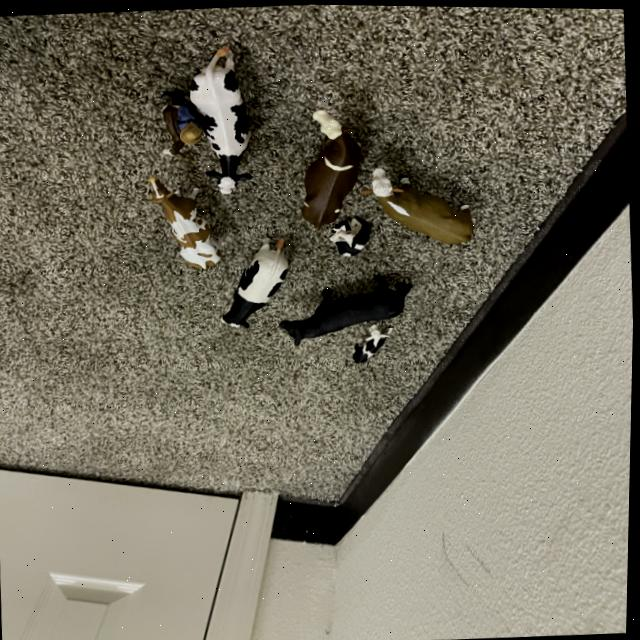cow: (174, 44, 269, 198), (275, 264, 421, 348), (137, 159, 236, 280), (357, 161, 485, 253), (218, 229, 304, 337), (300, 108, 366, 231), (326, 207, 380, 261), (348, 321, 392, 368), (162, 103, 187, 157)
person: (162, 84, 208, 148)
